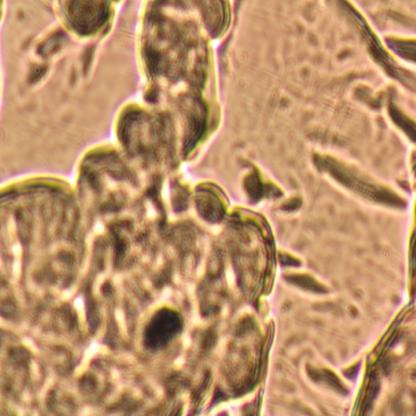Normal: (0, 106, 298, 416)
